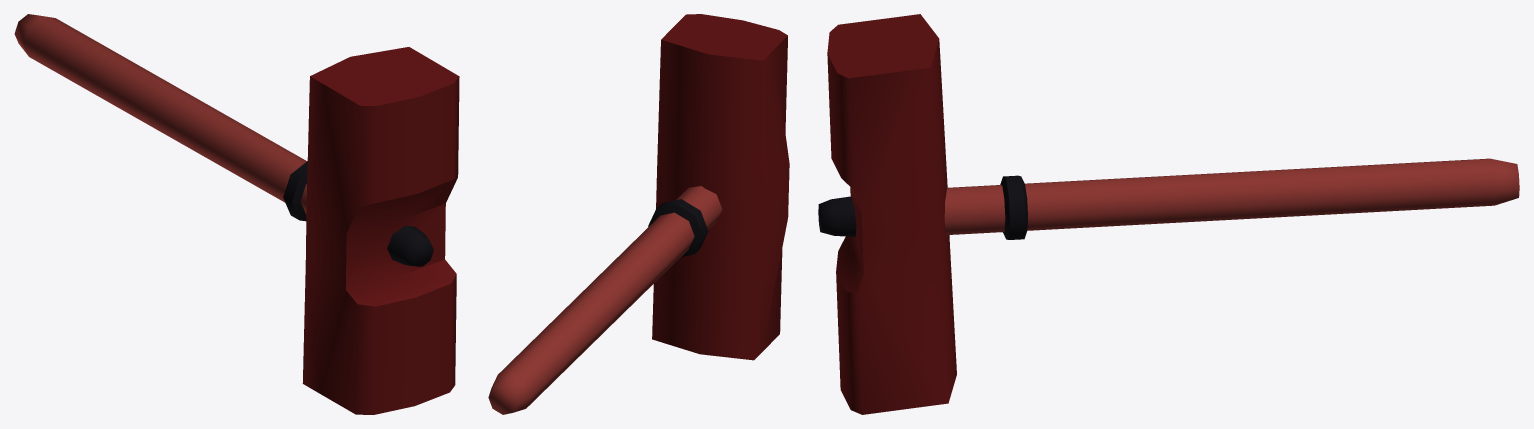
File: BlacksmithHammer.fbx
3 renders of one model, left to right at view 1: azimuth 30°, elevation 25°; view 2: azimuth 150°, elevation 25°; view 3: azimuth 270°, elevation 25°, orthographic. The views are drawn at different scales.
Visible parts, largest first — view 1: MinerArmor.001; view 2: MinerArmor.001; view 3: MinerArmor.001.
Part boxes in pixels (x1,y1,x2,y2): MinerArmor.001: (14, 14, 459, 414); MinerArmor.001: (488, 14, 789, 414); MinerArmor.001: (818, 14, 1519, 414).
Size of the model in its own units: 21.9 by 48.48 by 90.17.
